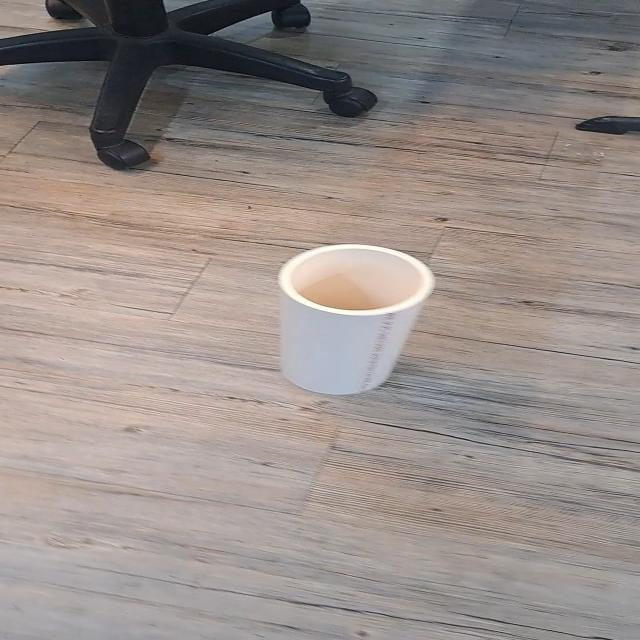CORAL: (273, 240, 440, 407)
